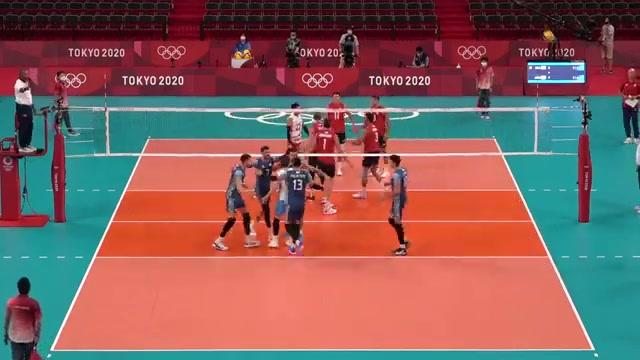ball: (541, 29, 557, 42)
